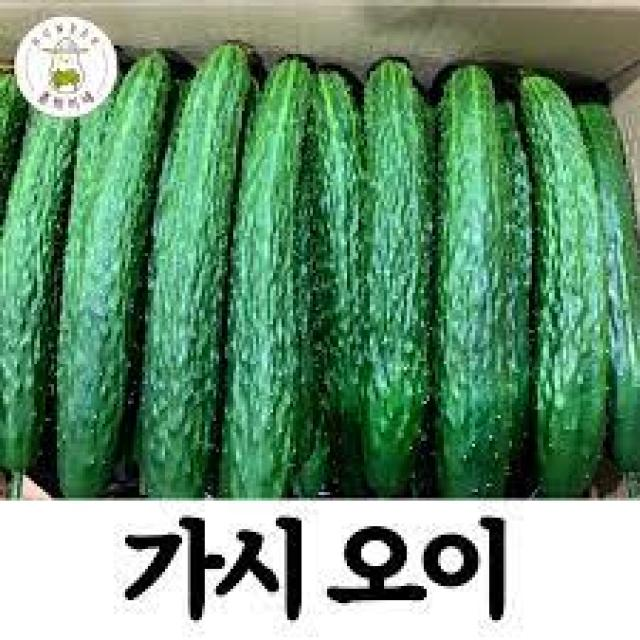Cucumber: (57, 51, 174, 498), (139, 46, 253, 501), (222, 57, 316, 499), (528, 77, 609, 498), (364, 60, 432, 498), (438, 65, 506, 498)
